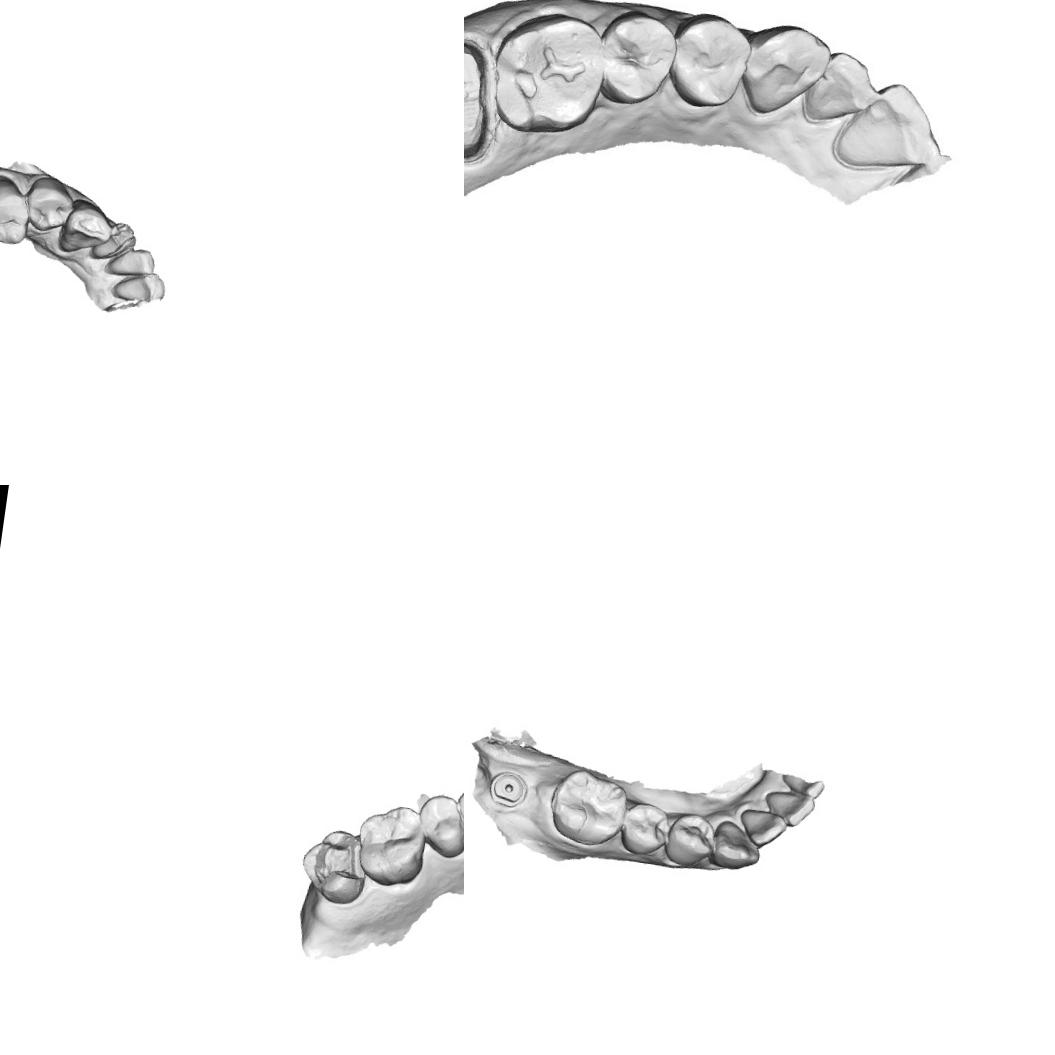canine: (741, 12, 831, 130), (57, 196, 116, 259), (708, 816, 766, 874)
crown: (464, 26, 507, 170)
implant: (486, 766, 531, 810)
incisor: (838, 76, 946, 178), (804, 42, 878, 131), (734, 805, 790, 852), (759, 789, 818, 832), (90, 216, 140, 266), (112, 266, 168, 305), (105, 243, 158, 281), (774, 773, 826, 801)
molar: (484, 7, 614, 138), (543, 763, 633, 851), (350, 798, 434, 892), (294, 822, 374, 908)
premolar: (666, 5, 754, 115), (595, 7, 682, 112), (660, 808, 719, 873), (413, 789, 464, 862), (20, 172, 78, 236), (617, 797, 672, 860), (0, 173, 34, 247), (450, 781, 464, 848)
